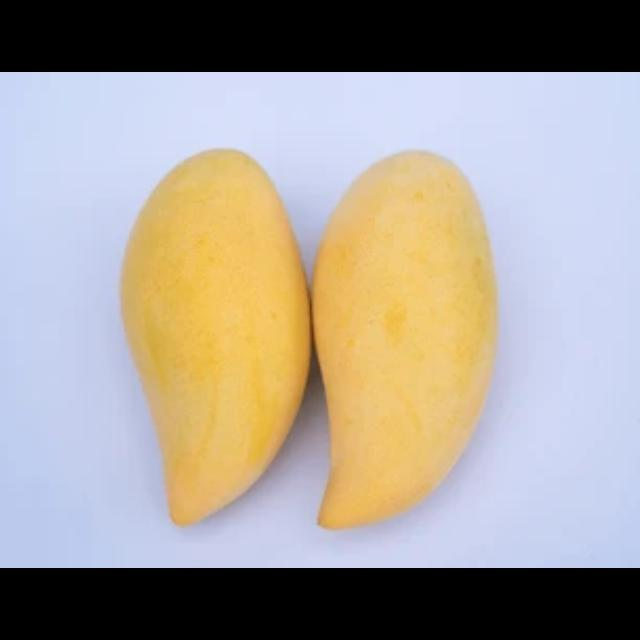mango: (117, 149, 317, 523), (311, 150, 497, 526)
